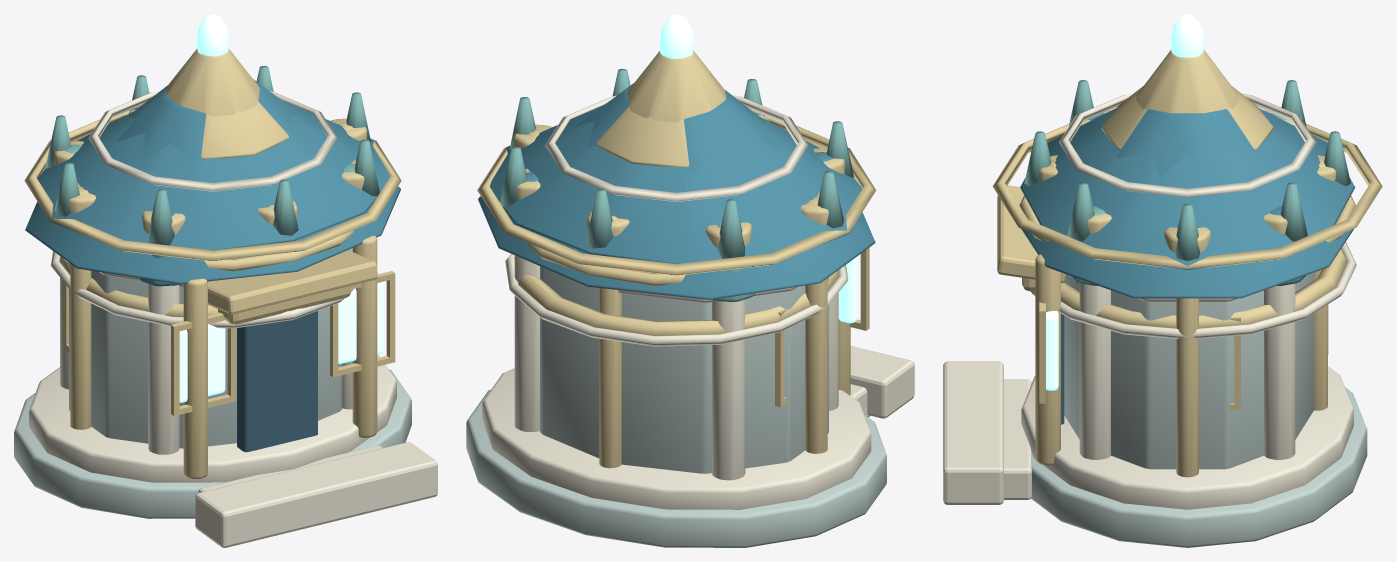
Rendered from skyreach-modular-architecture-authored-v1.glb.
3 renders of one model, left to right at view 1: azimuth 30°, elevation 25°; view 2: azimuth 150°, elevation 25°; view 3: azimuth 270°, elevation 25°, orthographic. The views are drawn at different scales.
Parts seen in each view (by area): view 1: GB_MODULE_LandmarkCanopy, GB_MODULE_BuildingStep_3, GB_MODULE_LandmarkFoundationUpper, GB_MODULE_BuildingRoof, GB_MODULE_BuildingWall, GB_MODULE_BuildingDoor, GB_MODULE_LandmarkFoundation, GB_MODULE_BuildingRoofEave, GB_MODULE_BuildingEntryCanopy, GB_MODULE_BuildingColumn_L, GB_MODULE_BuildingCrown, GB_MODULE_BuildingButtress_3 (+23 smaller); view 2: GB_MODULE_BuildingWall, GB_MODULE_LandmarkCanopy, GB_MODULE_LandmarkFoundation, GB_MODULE_LandmarkFoundationUpper, GB_MODULE_BuildingRoof, GB_MODULE_BuildingRoofEave, GB_MODULE_BuildingButtress_2, GB_MODULE_BuildingCrown, GB_MODULE_LandmarkRing, GB_MODULE_BuildingBalcony, GB_MODULE_BuildingRoofHalo, GB_MODULE_LandmarkPillar_5 (+17 smaller); view 3: GB_MODULE_LandmarkCanopy, GB_MODULE_BuildingWall, GB_MODULE_BuildingRoof, GB_MODULE_LandmarkFoundationUpper, GB_MODULE_LandmarkFoundation, GB_MODULE_BuildingStep_3, GB_MODULE_BuildingRoofEave, GB_MODULE_BuildingButtress_4, GB_MODULE_BuildingButtress_1, GB_MODULE_BuildingCrown, GB_MODULE_BuildingRoofHalo, GB_MODULE_LandmarkPillar_1 (+19 smaller).
Part boxes in pixels (<box>): GB_MODULE_LandmarkCanopy: <box>37,100,389,250</box>; GB_MODULE_BuildingStep_3: <box>195,442,437,547</box>; GB_MODULE_LandmarkFoundationUpper: <box>29,355,396,482</box>; GB_MODULE_BuildingRoof: <box>25,79,400,284</box>; GB_MODULE_BuildingWall: <box>69,263,342,448</box>; GB_MODULE_BuildingDoor: <box>237,311,317,452</box>; GB_MODULE_LandmarkFoundation: <box>14,369,411,518</box>; GB_MODULE_BuildingRoofEave: <box>24,110,401,261</box>; GB_MODULE_BuildingEntryCanopy: <box>208,250,377,314</box>; GB_MODULE_BuildingColumn_L: <box>183,278,207,479</box>; GB_MODULE_BuildingCrown: <box>166,48,259,116</box>; GB_MODULE_BuildingButtress_3: <box>148,284,179,454</box>; GB_MODULE_BuildingWall: <box>540,266,828,473</box>; GB_MODULE_LandmarkCanopy: <box>490,104,862,263</box>; GB_MODULE_LandmarkFoundation: <box>466,389,886,547</box>; GB_MODULE_LandmarkFoundationUpper: <box>482,368,871,509</box>; GB_MODULE_BuildingRoof: <box>478,83,875,299</box>; GB_MODULE_BuildingRoofEave: <box>477,116,876,275</box>; GB_MODULE_BuildingButtress_2: <box>712,299,745,480</box>; GB_MODULE_BuildingCrown: <box>627,50,725,122</box>; GB_MODULE_LandmarkRing: <box>514,258,839,335</box>; GB_MODULE_BuildingBalcony: <box>505,254,848,346</box>; GB_MODULE_BuildingRoofHalo: <box>545,95,808,201</box>; GB_MODULE_LandmarkPillar_5: <box>805,197,827,453</box>; GB_MODULE_LandmarkCanopy: <box>1020,108,1354,269</box>; GB_MODULE_BuildingWall: <box>1064,272,1313,469</box>; GB_MODULE_BuildingRoof: <box>1021,109,1353,298</box>; GB_MODULE_LandmarkFoundationUpper: <box>1021,366,1353,509</box>; GB_MODULE_LandmarkFoundation: <box>1031,387,1367,547</box>; GB_MODULE_BuildingStep_3: <box>943,361,1003,504</box>; GB_MODULE_BuildingRoofEave: <box>992,124,1382,269</box>; GB_MODULE_BuildingButtress_4: <box>1079,283,1110,459</box>; GB_MODULE_BuildingButtress_1: <box>1264,283,1295,459</box>; GB_MODULE_BuildingCrown: <box>1136,50,1238,113</box>; GB_MODULE_BuildingRoofHalo: <box>1059,93,1316,197</box>; GB_MODULE_LandmarkPillar_1: <box>1176,298,1198,477</box>.
Size of the model in its own units: 1.06 by 1.22 by 1.09.
